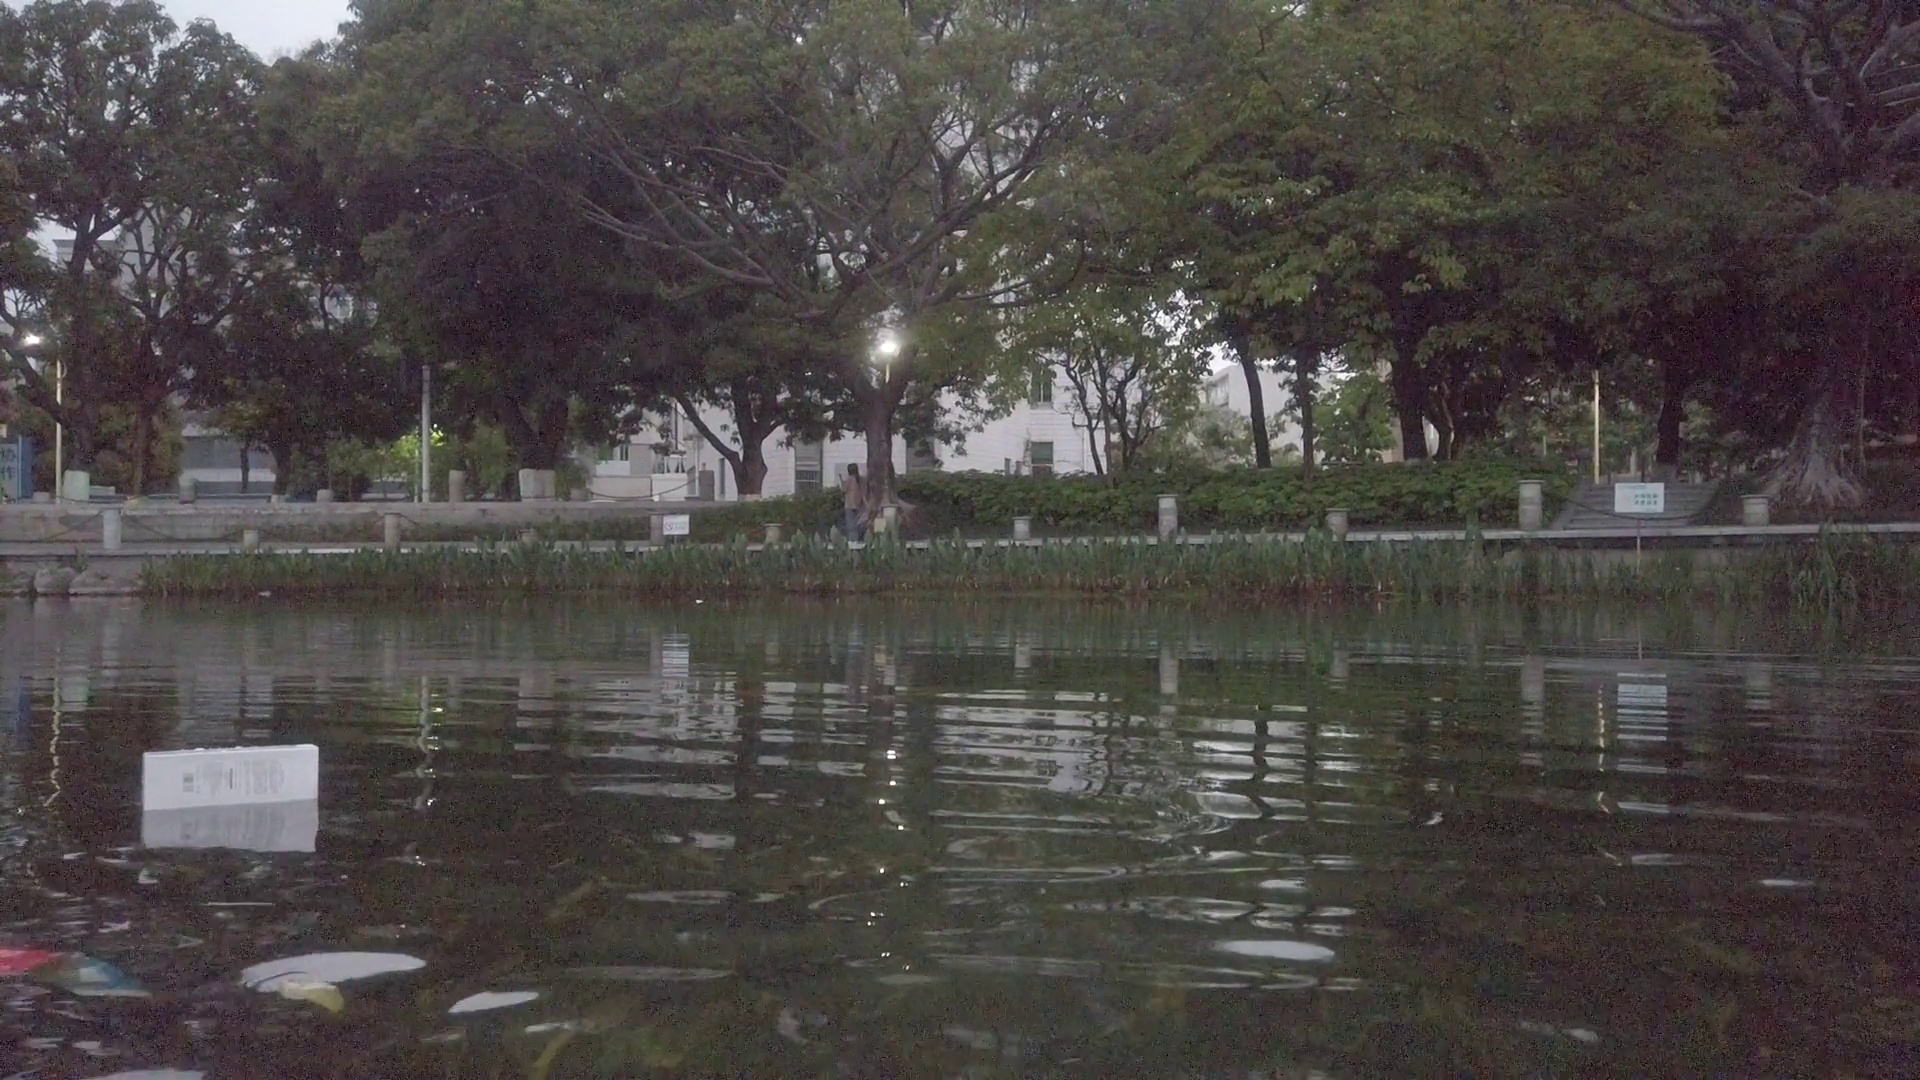carton: (142, 741, 320, 808)
